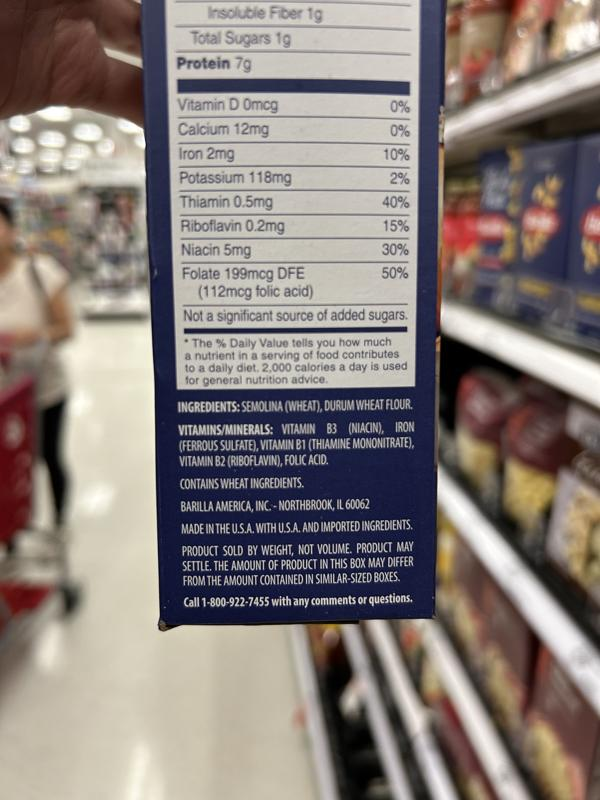ingredients: (176, 397, 414, 415)
